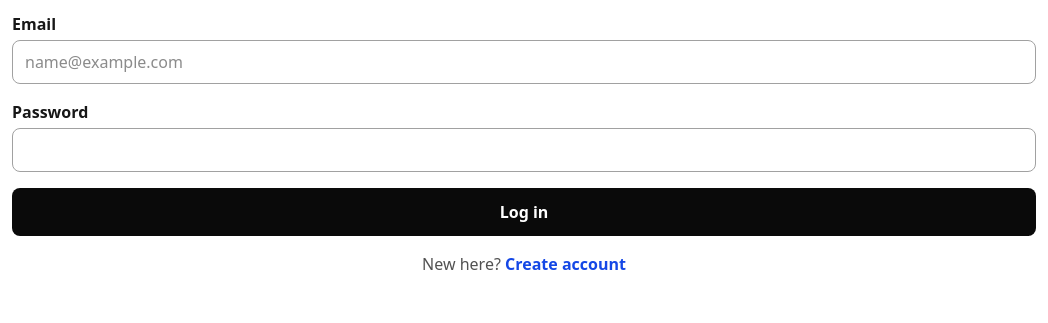
Test: too many tries says to wait
The width and height of the screenshot is (1048, 323).
Type "kiri@example.com" into the field labelled "Email" at (524, 62), box [12,40,1036,84]
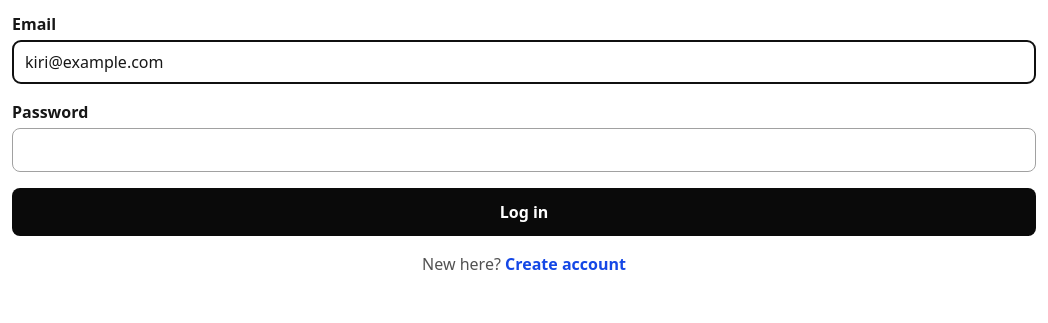
Type "wrong" into the password field labelled "Password" at (524, 150), box [12,128,1036,172]
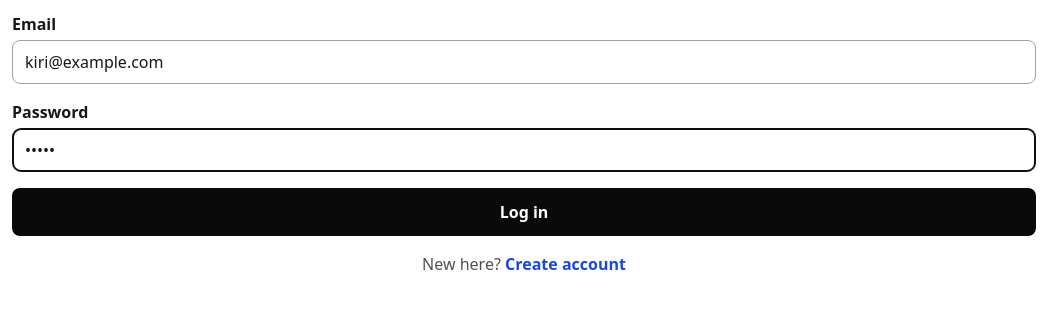
Click the button "Log in" at (524, 212), box [12,188,1036,236]
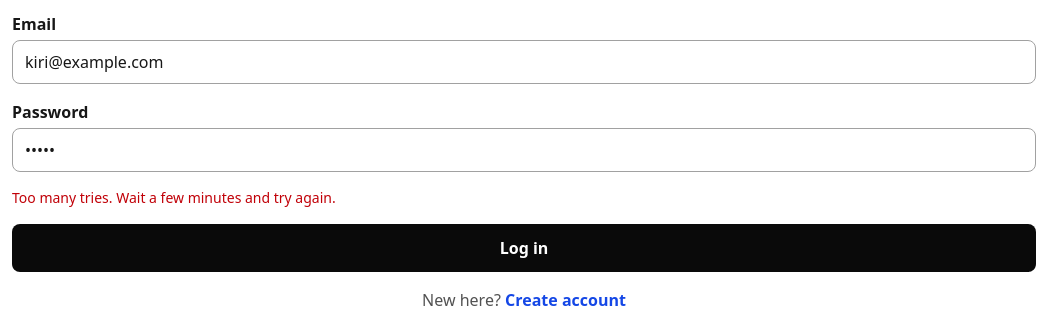
Check: the message reads "Too many tries. Wait a few minutes and try again.", box [12,188,336,207]
